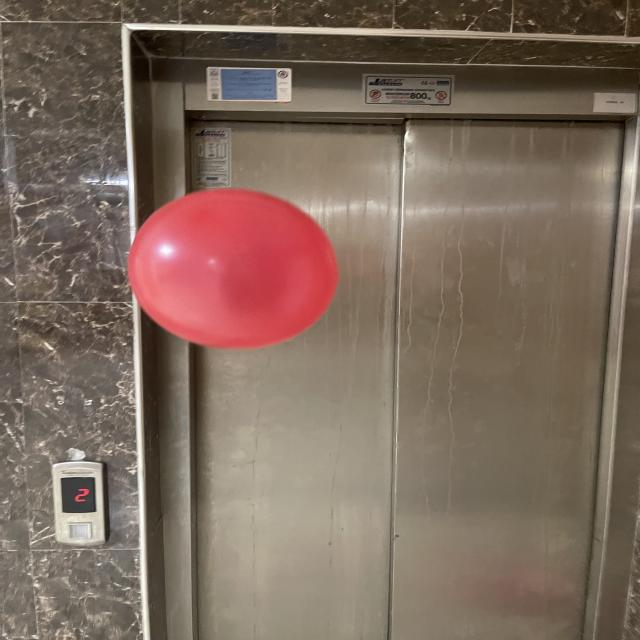balloon: (128, 188, 339, 349)
